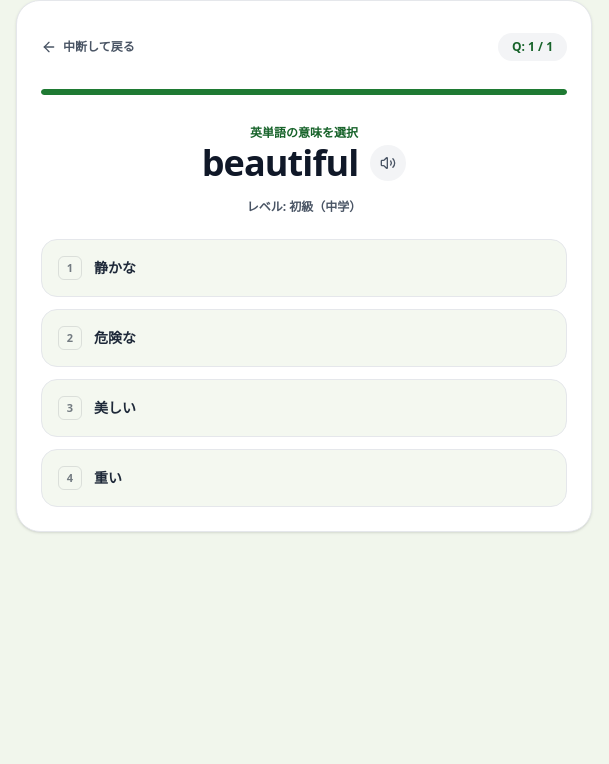
回答したとき › 誤答なら苦手単語に加え、正解を見せる
Click the button "4 重い": (70, 478) [41, 449, 567, 507]
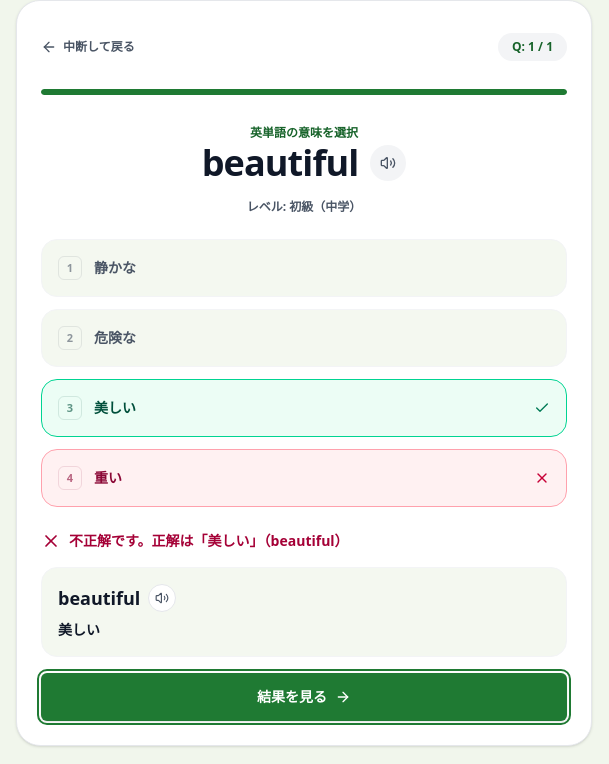
Result: the message reads "不正解です。正解は「美しい」（beautiful）" at [69, 531, 349, 550]
Result: the element with id "answer_feedback" shows "beautiful" at [58, 586, 140, 610]
Result: the button with id "btn_next_question" reads "結果を見る" at [41, 673, 567, 721]
